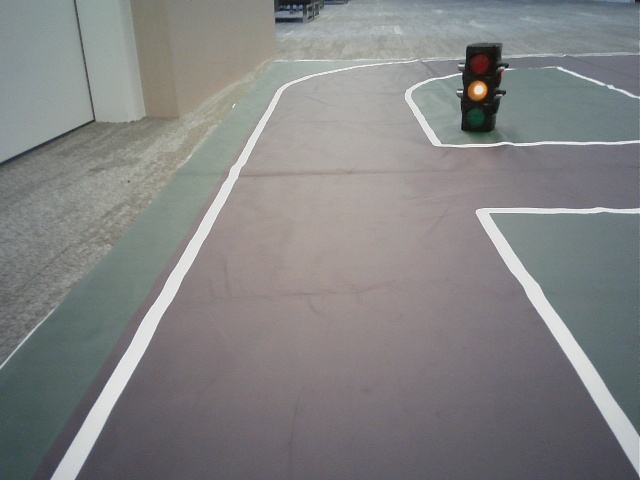yellow: (464, 48, 489, 130)
